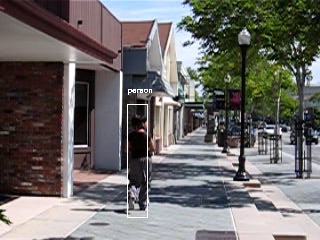person: (125, 114, 156, 212), (124, 114, 155, 212), (126, 114, 157, 212), (125, 113, 156, 211), (125, 115, 156, 213)
target_negative: (160, 32, 308, 154), (239, 219, 313, 233), (223, 90, 309, 97), (161, 55, 165, 193), (289, 159, 295, 234), (222, 197, 235, 221)
